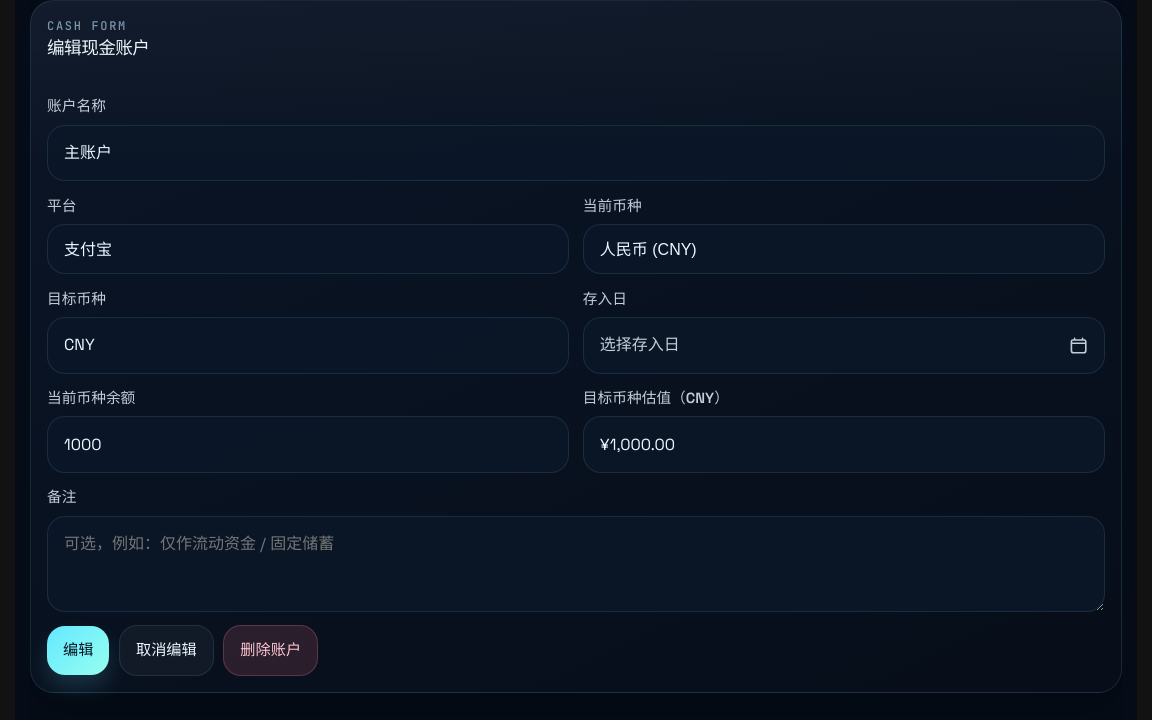
Test case: Cash account button styling › asks for confirmation before deleting a cash account from the form
The width and height of the screenshot is (1152, 720).
Click the button "删除账户" at (271, 650), box [223,625,318,676]
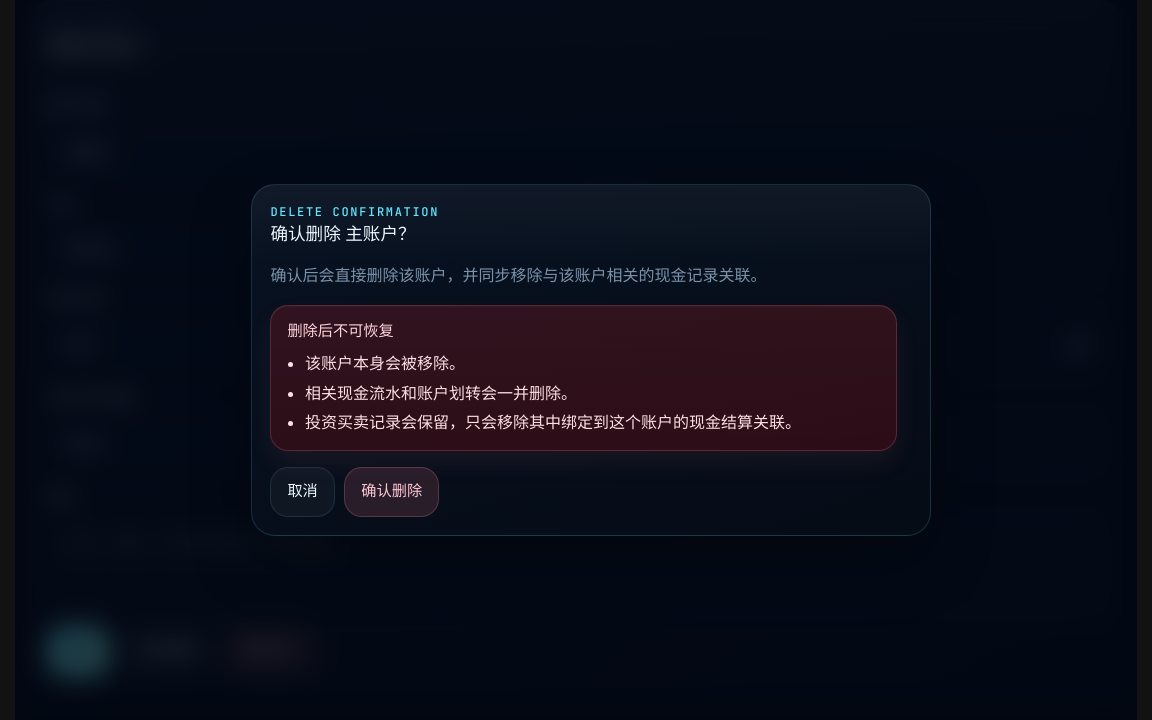
expect the text "确认后会直接删除该账户，并同步移除与该账户相关的现金记录关联。" is shown: met, box [270,265,766,286]
expect the button "取消" is shown: met, box [270,467,335,517]
Click the button "确认删除" at (392, 492), box [344,467,439,517]
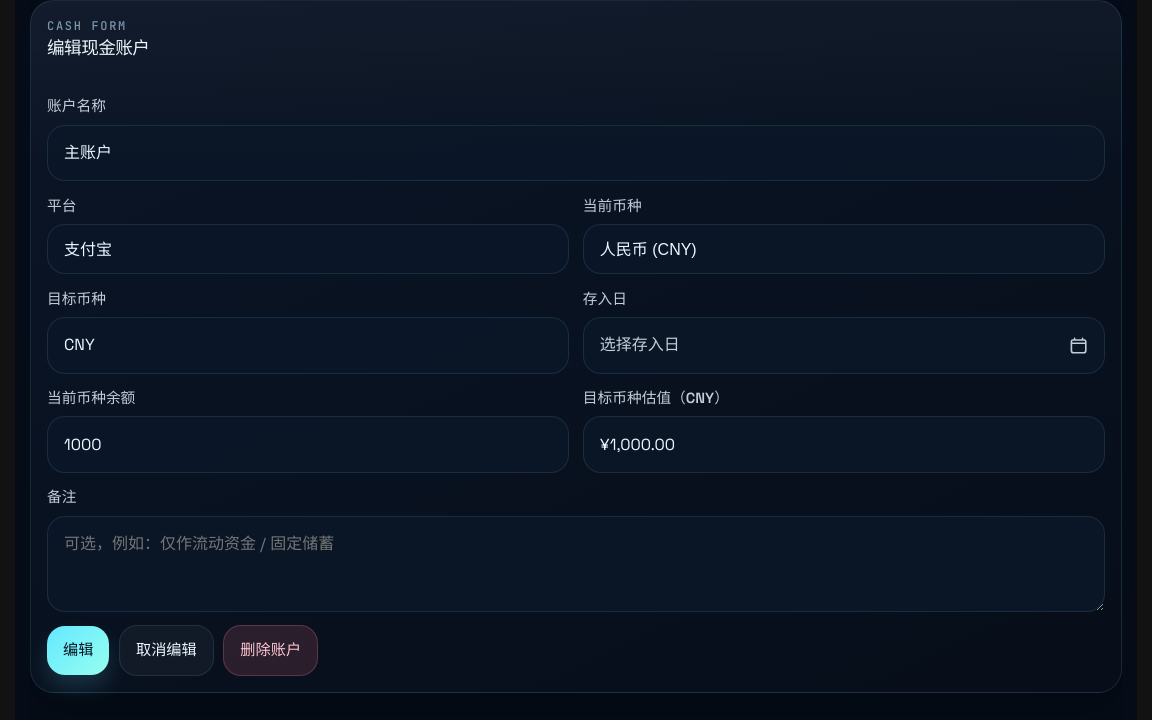
expect the dialog is gone: met
